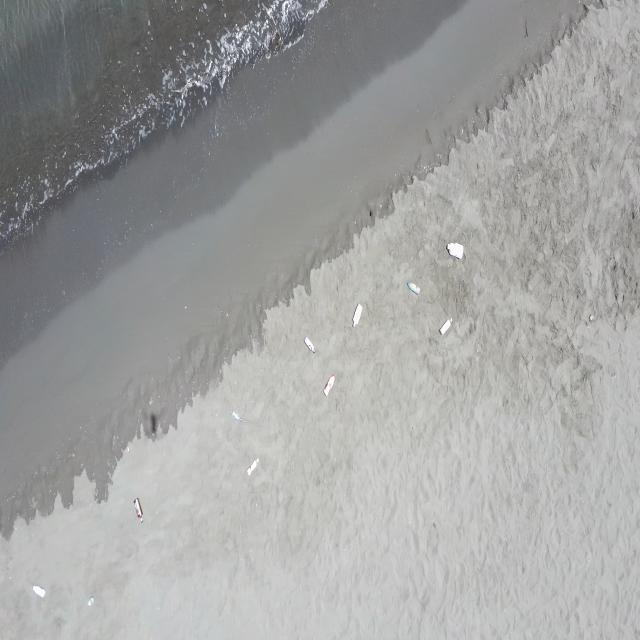plastic-bottle: (445, 239, 465, 261), (322, 374, 336, 398), (352, 303, 364, 329), (439, 316, 454, 336), (303, 336, 317, 354), (406, 280, 421, 296), (248, 456, 260, 476), (135, 497, 144, 520), (33, 584, 46, 599), (233, 411, 244, 423), (86, 596, 95, 607)
